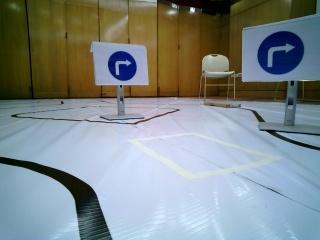right: (245, 30, 320, 77), (93, 44, 151, 81)
